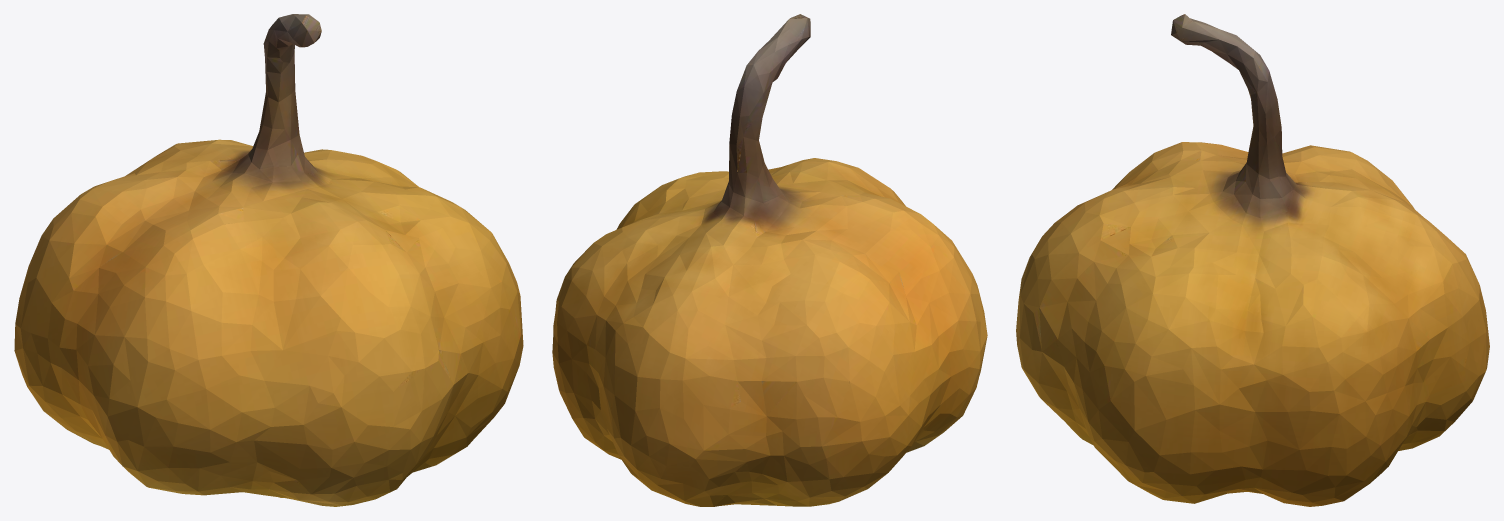
The model's file is pumpkin.glb.
The picture shows the model from 3 angles, left to right: view 1: azimuth 30°, elevation 25°; view 2: azimuth 150°, elevation 25°; view 3: azimuth 270°, elevation 25°; orthographic projection. The views are drawn at different scales.
Parts seen in each view (by area): view 1: ObjectToExport; view 2: ObjectToExport; view 3: ObjectToExport.
Part boxes in pixels (x1=…): ObjectToExport: x1=14, y1=14, x2=523, y2=506; ObjectToExport: x1=552, y1=14, x2=987, y2=506; ObjectToExport: x1=1016, y1=14, x2=1489, y2=506.
Size of the model in its own units: 0.2629 by 0.3081 by 0.2892.
Materials: 1 (1 with a texture image).
